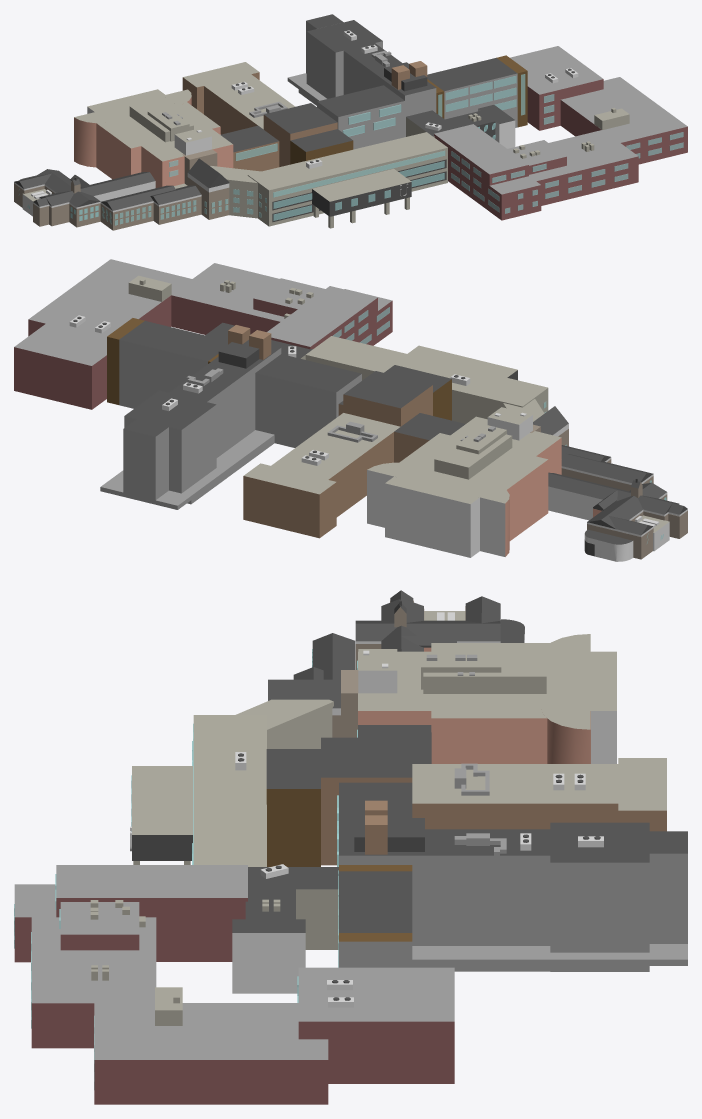
File: CMGT.fbx
The picture shows the model from 3 angles, top to bottom: view 1: azimuth 30°, elevation 25°; view 2: azimuth 150°, elevation 25°; view 3: azimuth 270°, elevation 25°; orthographic projection. The views are drawn at different scales.
Parts seen in each view (by area): view 1: pCube1501; view 2: pCube1501; view 3: pCube1501.
Boxes of the visible parts, <box> form: pCube1501: <box>14,14,687,230</box>; pCube1501: <box>14,259,687,561</box>; pCube1501: <box>14,590,687,1104</box>.
Size of the model in its own units: 708 by 92.06 by 427.
